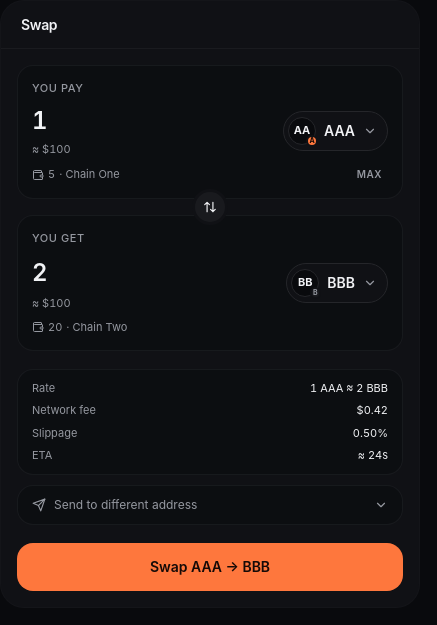
Test: SwapPanel › reverses direction
Click the button named "Reverse direction" at (210, 207), box [192,189,228,225]
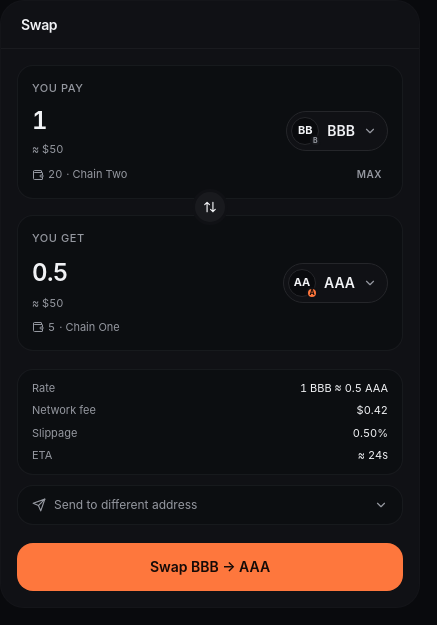
Result: the button "Swap BBB → AAA" is shown at [17,542,403,590]
Result: the text "1 BBB ≈ 0.5 AAA" is shown at [300,380,388,394]
